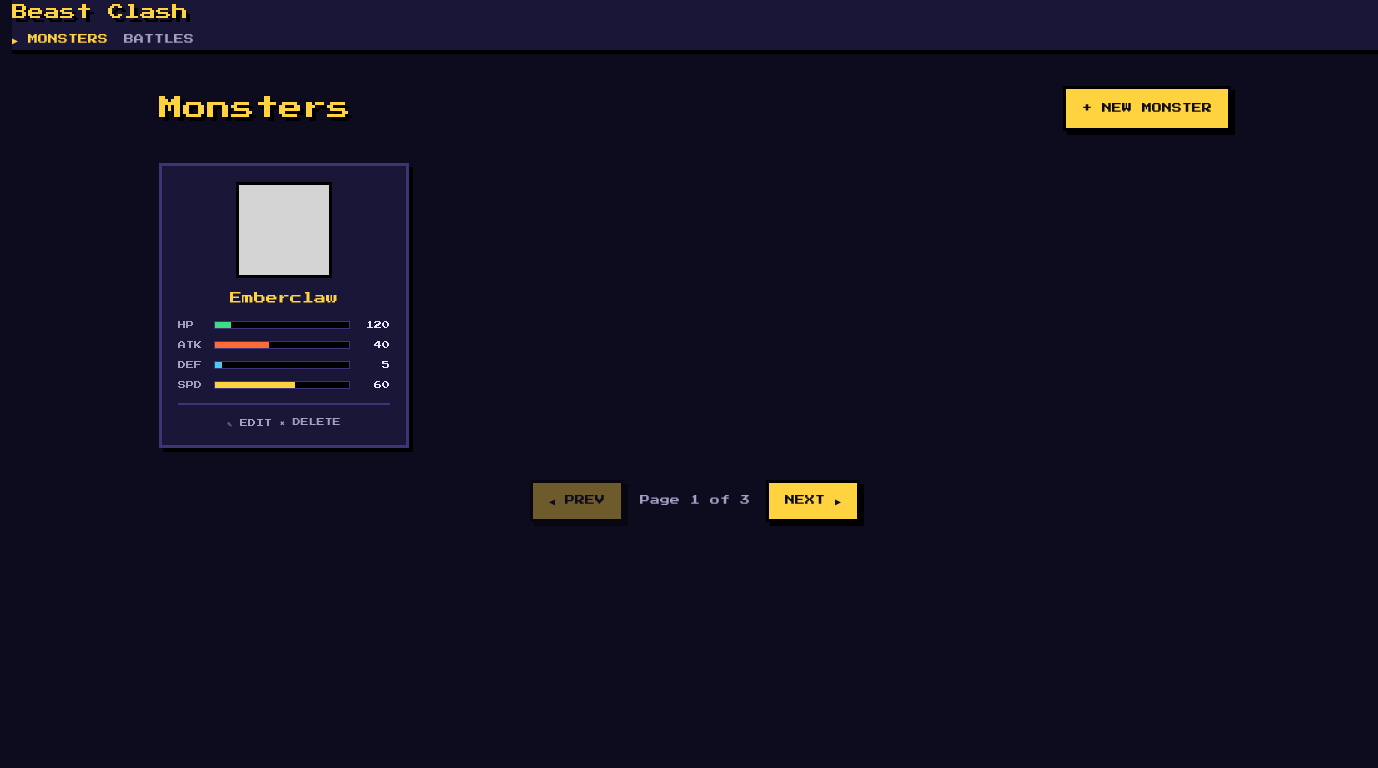
Scenario: MonsterList › pagination › moves between pages
Click the button "Next ▶" at coordinates (813, 501), box x1=766 y1=480 x2=860 y2=522
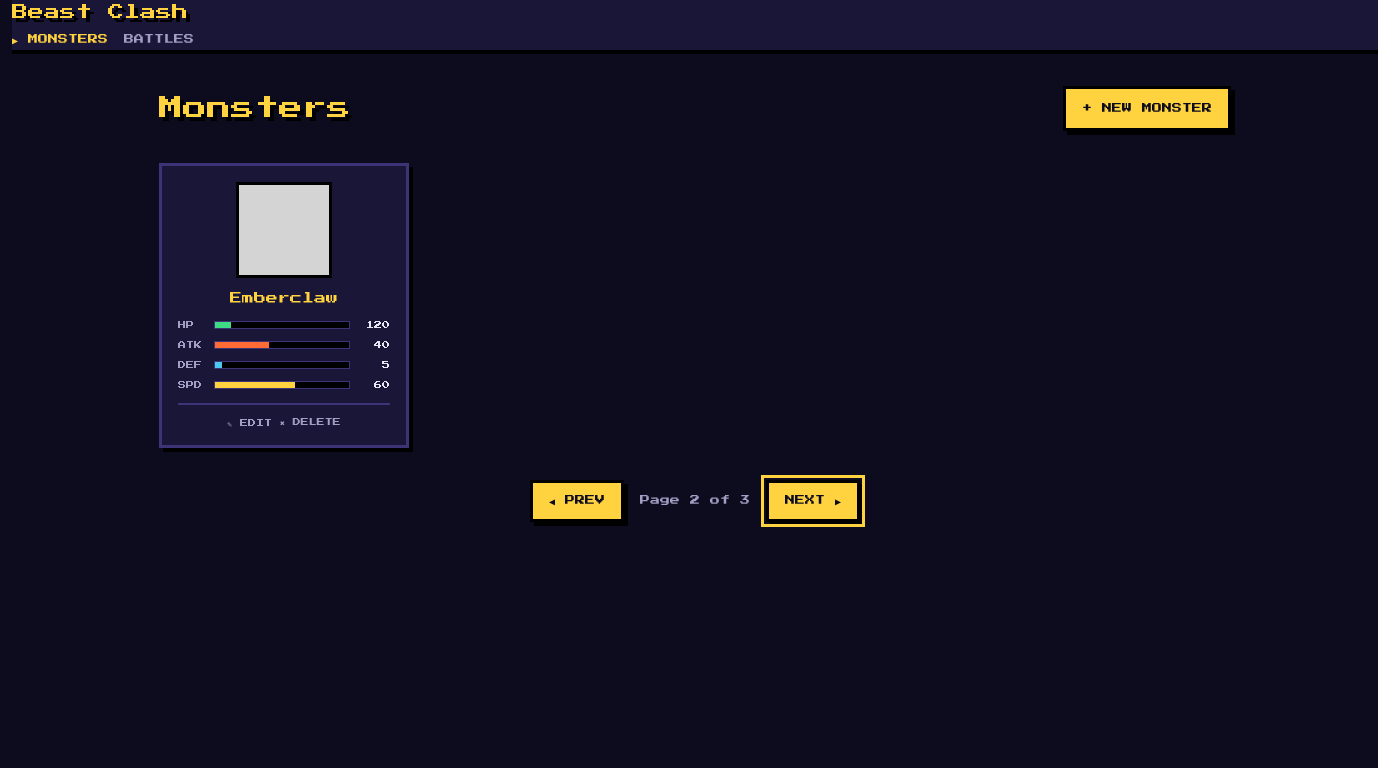
Check: the text "Page 2 of 3" is shown, box x1=640 y1=493 x2=750 y2=508
Check: the button "◀ Prev" is enabled, box x1=530 y1=480 x2=624 y2=522
